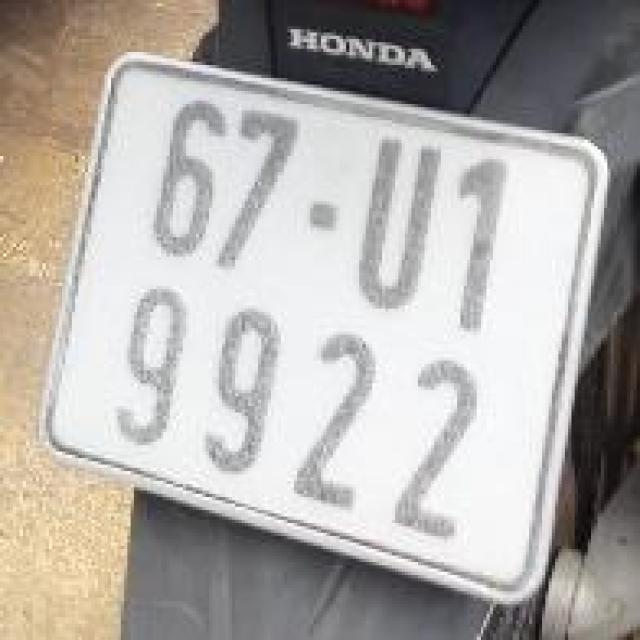1: (454, 142, 519, 340)
2: (387, 344, 498, 568), (296, 324, 377, 522)
6: (142, 86, 220, 265)
7: (217, 96, 305, 281)
9: (194, 291, 276, 482), (122, 268, 188, 463)
U: (349, 125, 441, 317)
